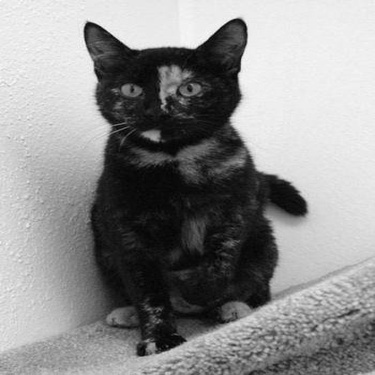cat: (60, 19, 302, 346)
